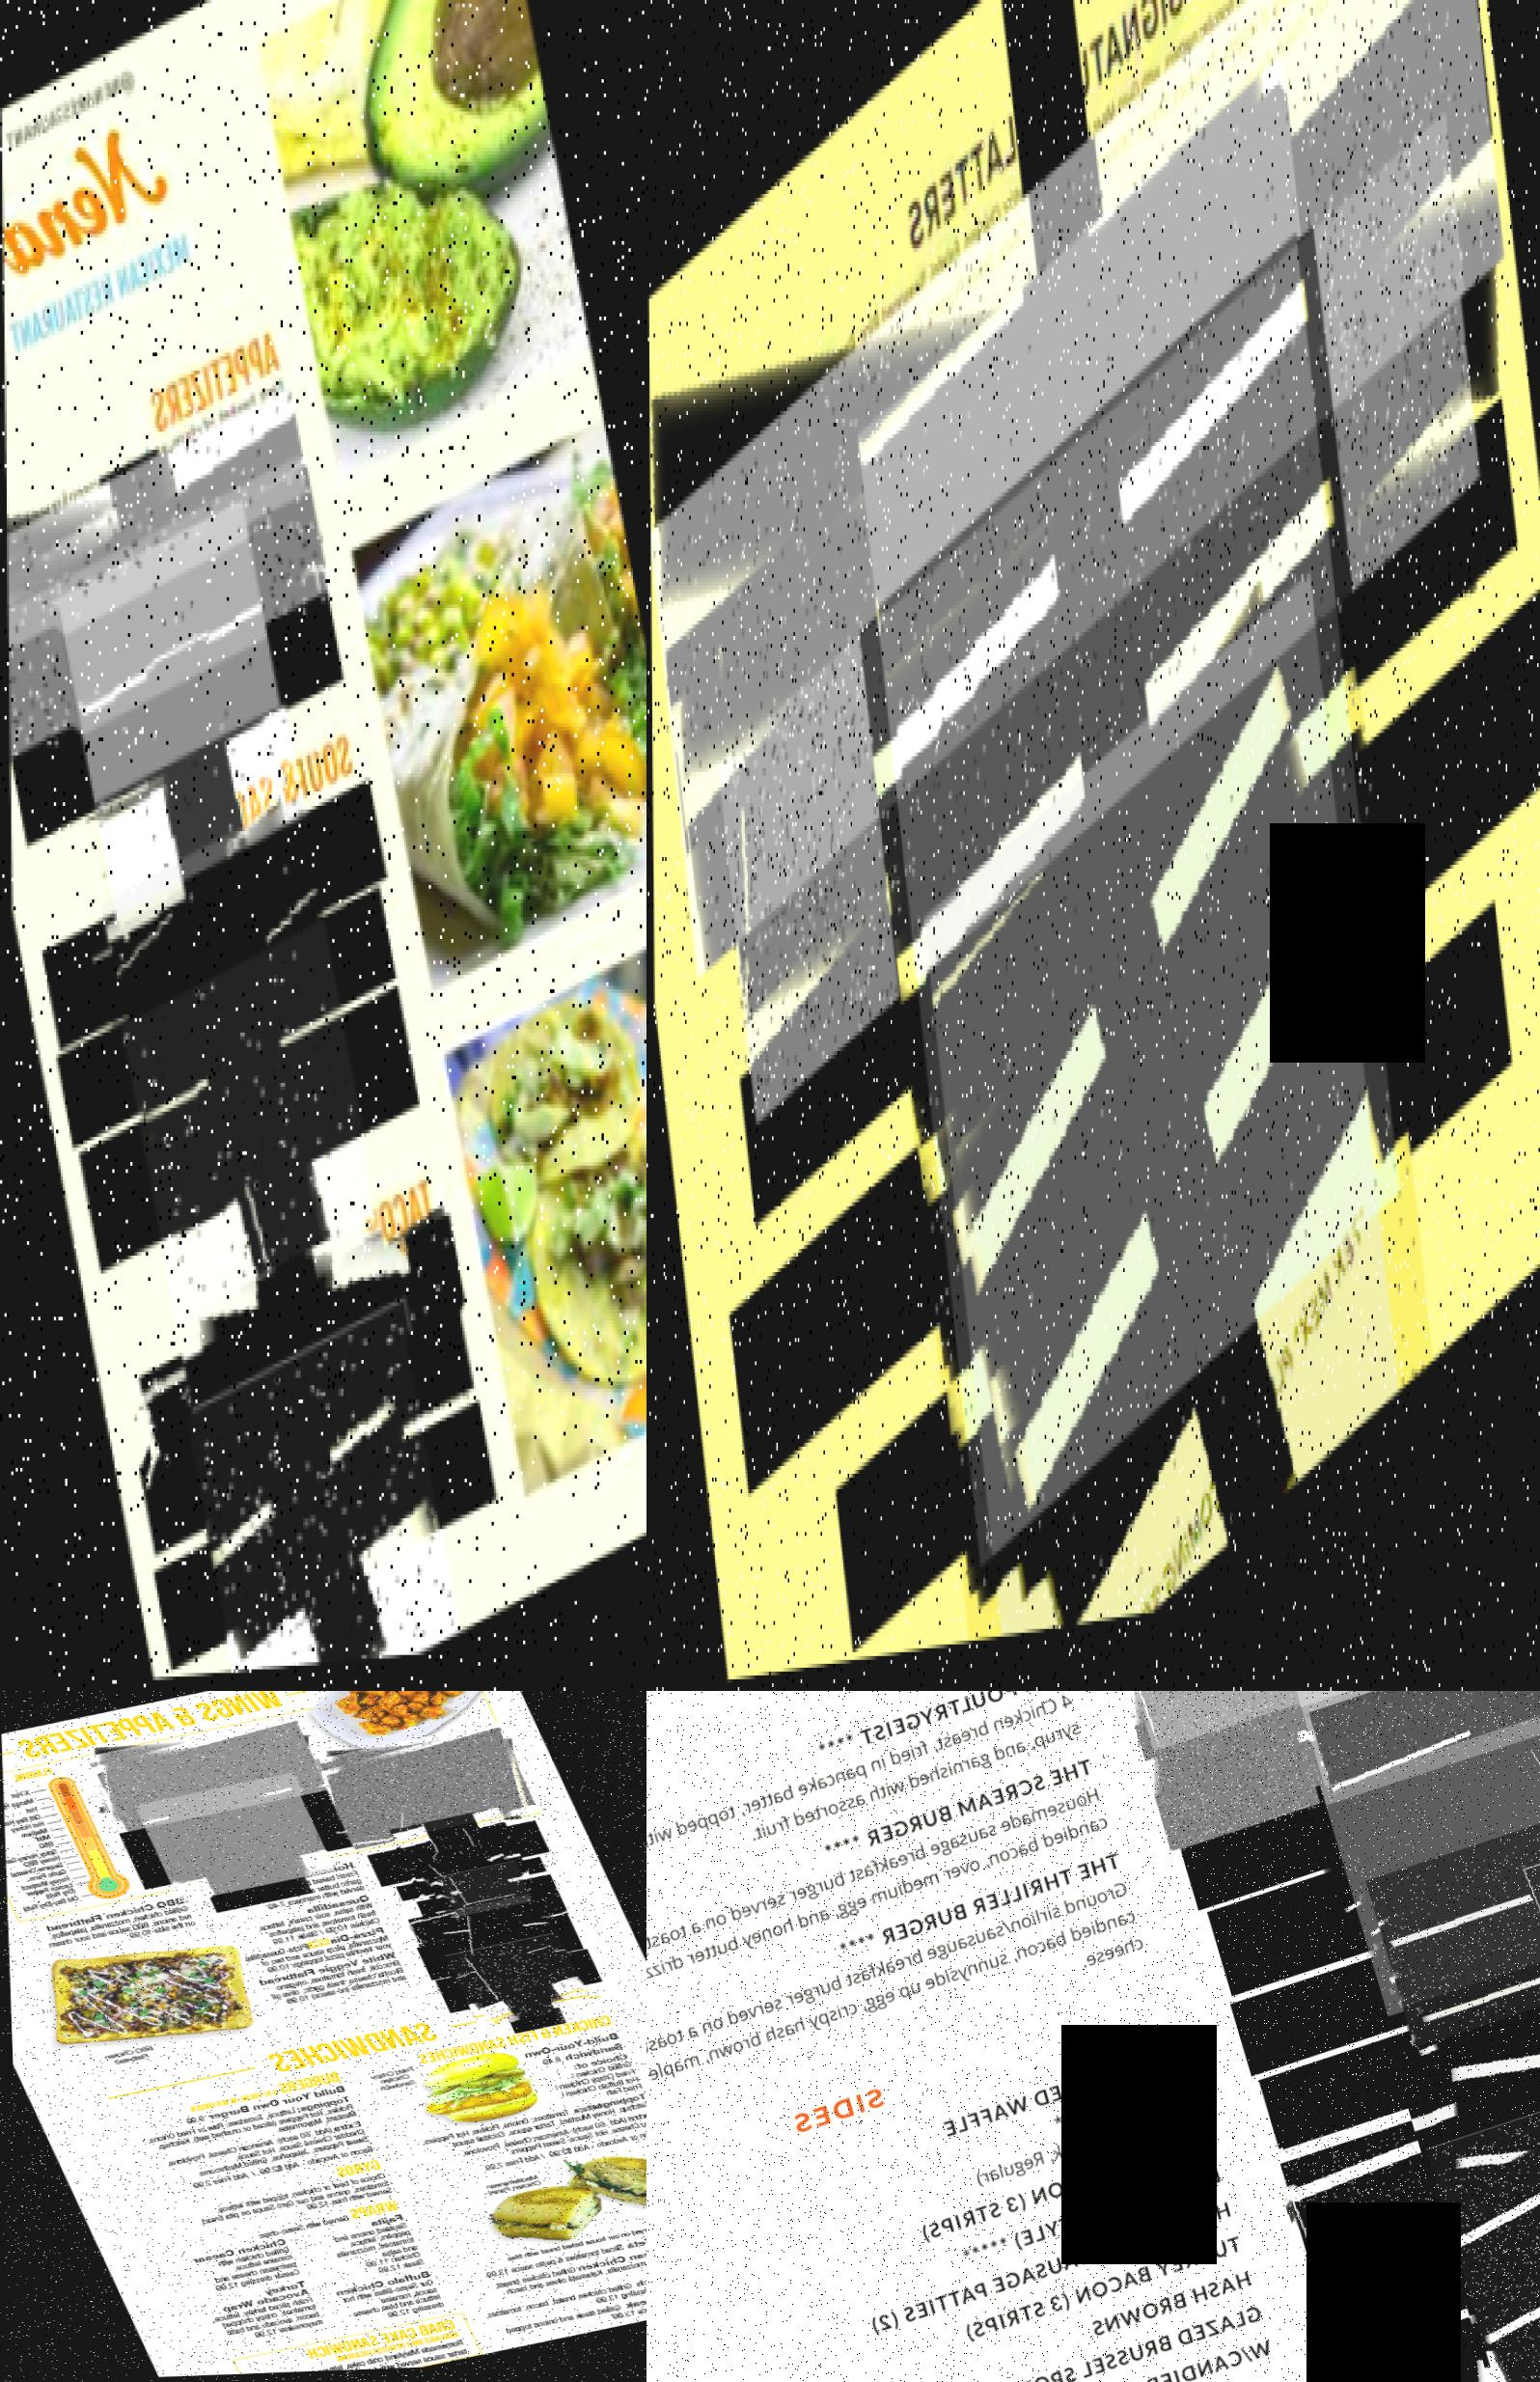Menu-Items: (648, 0, 1505, 984), (854, 69, 1399, 1590), (856, 233, 1431, 1665), (707, 137, 1481, 1135), (918, 582, 1396, 1656), (646, 2030, 1210, 2340), (646, 1849, 1151, 2163), (646, 2132, 1222, 2375), (646, 1757, 1120, 2049), (646, 2170, 1227, 2382), (85, 799, 356, 1247), (1311, 1691, 1540, 2217), (646, 1691, 1090, 1953), (170, 1219, 434, 1653), (80, 705, 339, 1134), (118, 924, 373, 1346), (646, 2203, 1238, 2382), (47, 512, 297, 927), (5, 458, 332, 774), (1304, 1691, 1540, 2116), (181, 1313, 453, 1679), (1262, 1941, 1540, 2287), (1267, 1691, 1540, 2031), (1361, 1767, 1540, 2273), (120, 1224, 462, 1486), (5, 387, 311, 674), (646, 2238, 1245, 2382), (1118, 1691, 1540, 1866), (1387, 1932, 1540, 2382), (646, 2271, 1257, 2382), (347, 2010, 646, 2200), (156, 2200, 453, 2363), (646, 2307, 1266, 2382), (123, 2069, 378, 2200), (75, 1715, 328, 1837), (307, 1724, 540, 1854), (444, 2208, 646, 2354), (134, 1773, 335, 1905), (172, 2156, 401, 2240), (219, 2314, 481, 2377), (915, 2342, 1281, 2382), (385, 1811, 530, 1905), (425, 1906, 569, 2000), (444, 1938, 589, 2031), (19, 1894, 205, 1962), (245, 1950, 422, 2019), (196, 1858, 373, 1925), (405, 1892, 569, 1951), (233, 1894, 392, 1953), (410, 1844, 530, 1922), (247, 1925, 399, 1977), (432, 1866, 536, 1932)
